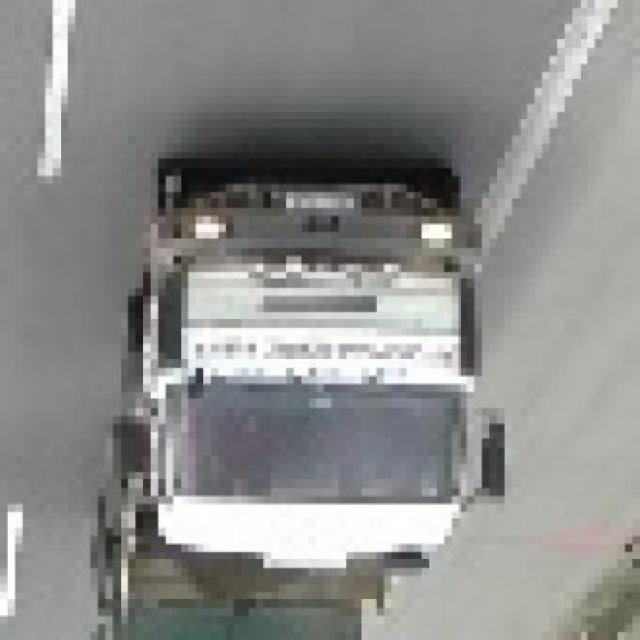truck: (77, 161, 506, 640)
